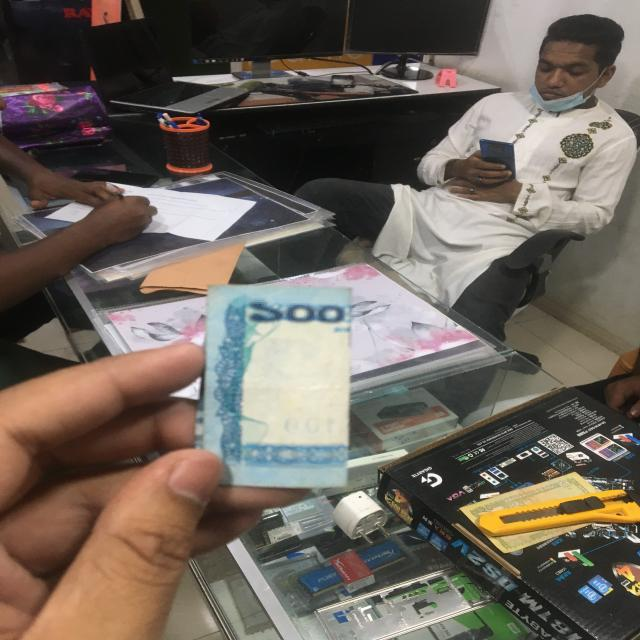Taka: (208, 284, 352, 488)
